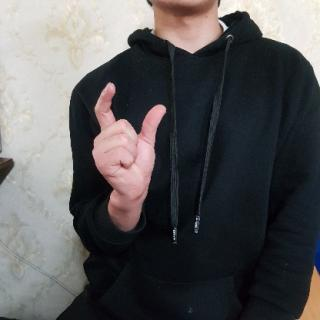NOON: (89, 78, 171, 220)
